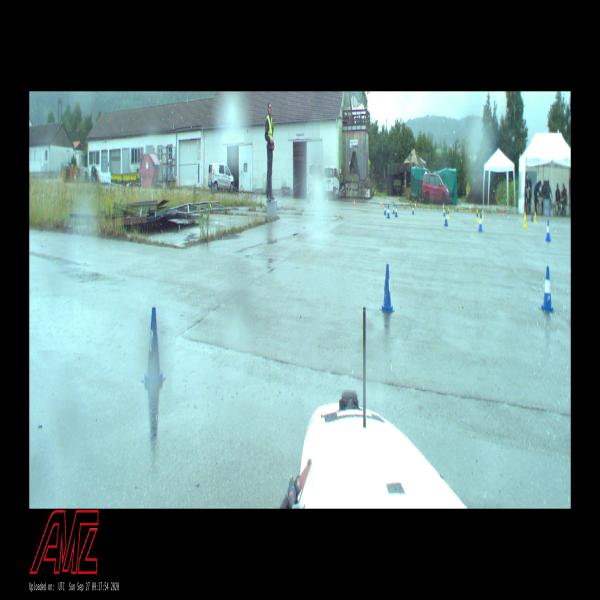blue_cone: (141, 308, 166, 387), (380, 264, 395, 313), (540, 266, 554, 312), (545, 220, 551, 242), (478, 213, 483, 232), (444, 211, 448, 226), (387, 205, 390, 218), (395, 204, 397, 217), (384, 204, 386, 215), (393, 205, 395, 214), (412, 205, 414, 214), (443, 208, 445, 216)
orange_cone: (380, 200, 382, 208), (353, 199, 355, 206)
yellow_cone: (523, 212, 526, 228), (476, 209, 478, 222), (534, 212, 536, 224), (447, 207, 449, 218)
